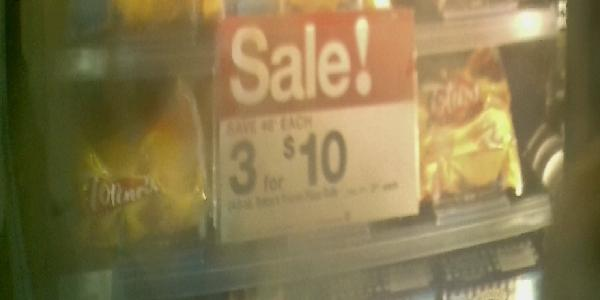icecream: (396, 55, 558, 217), (50, 90, 207, 239)
